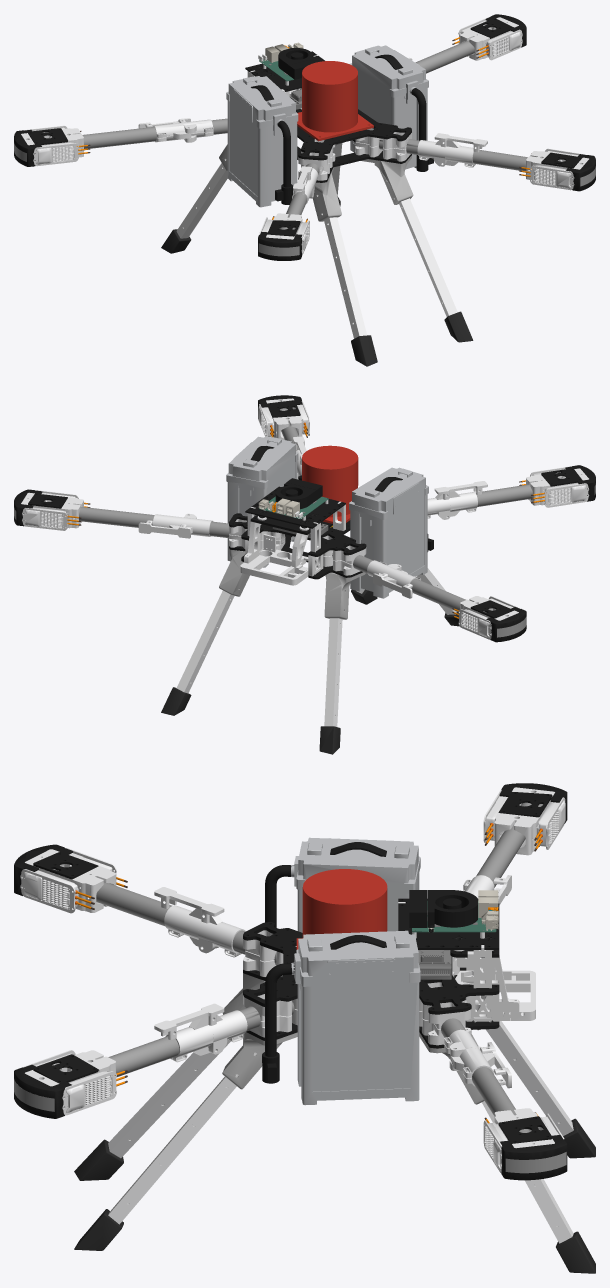
Rendered from body.obj.
The picture shows the model from 3 angles, top to bottom: view 1: azimuth 30°, elevation 25°; view 2: azimuth 150°, elevation 25°; view 3: azimuth 270°, elevation 25°; orthographic projection. The views are drawn at different scales.
Parts seen in each view (by area): view 1: Доставщик_09.10_v2; view 2: Доставщик_09.10_v2; view 3: Доставщик_09.10_v2.
Boxes of the visible parts, x1,y1,x2,y2 form: Доставщик_09.10_v2: (14,14,595,366); Доставщик_09.10_v2: (14,395,595,754); Доставщик_09.10_v2: (14,783,595,1273).
Size of the model in its own units: 1194 by 488 by 794.
